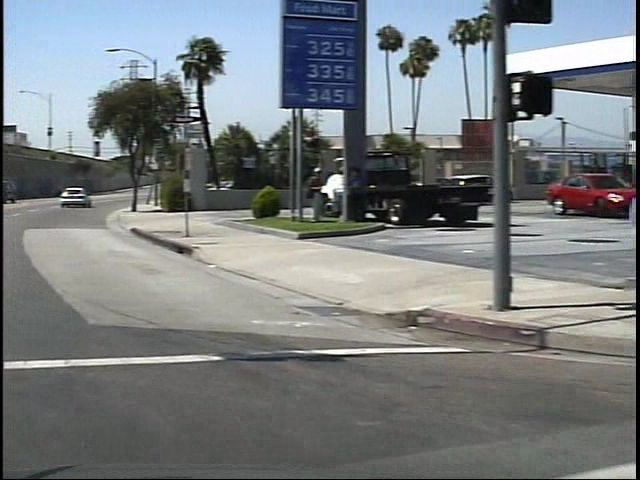person: (296, 161, 320, 225)
